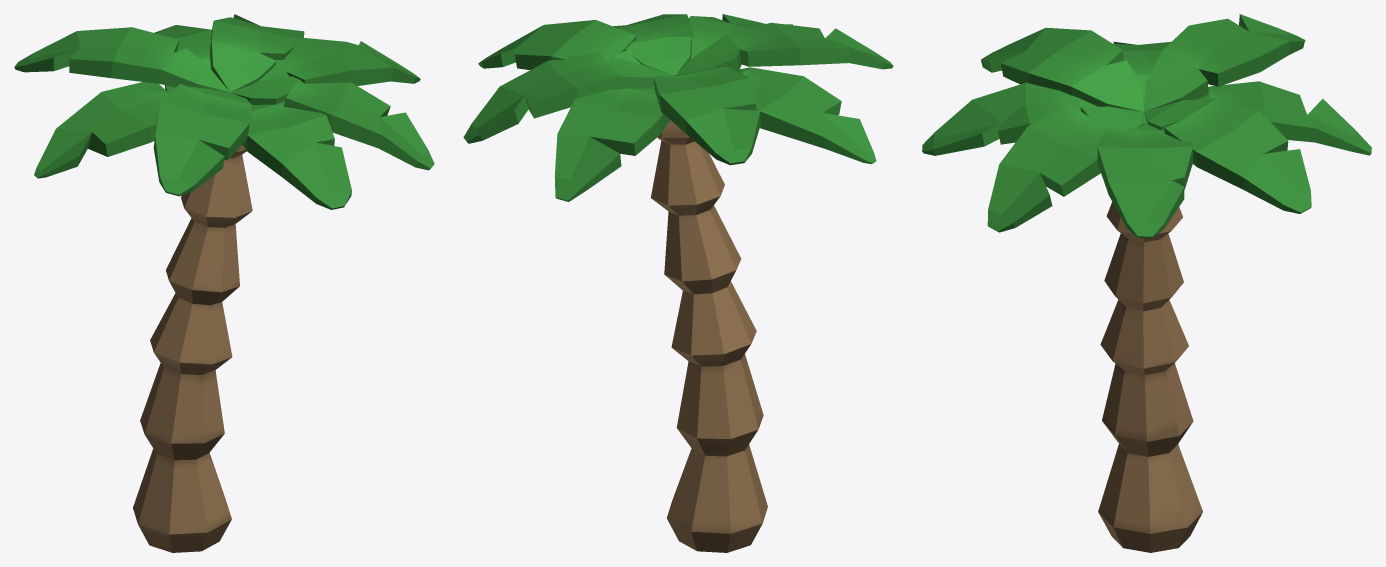
Rendered from PalmTree.fbx.
The picture shows the model from 3 angles, left to right: view 1: azimuth 30°, elevation 25°; view 2: azimuth 150°, elevation 25°; view 3: azimuth 270°, elevation 25°; orthographic projection. The views are drawn at different scales.
Visible parts, largest first — view 1: Leaves, Trunk; view 2: Leaves, Trunk; view 3: Leaves, Trunk.
Part boxes in pixels (bbox=[...]): Leaves: bbox=[14, 14, 434, 209]; Trunk: bbox=[133, 145, 252, 552]; Leaves: bbox=[463, 14, 893, 201]; Trunk: bbox=[651, 120, 767, 552]; Leaves: bbox=[922, 14, 1371, 238]; Trunk: bbox=[1098, 202, 1202, 552].
Size of the model in its own units: 987 by 1169 by 981.
2 materials, 2 textured.
